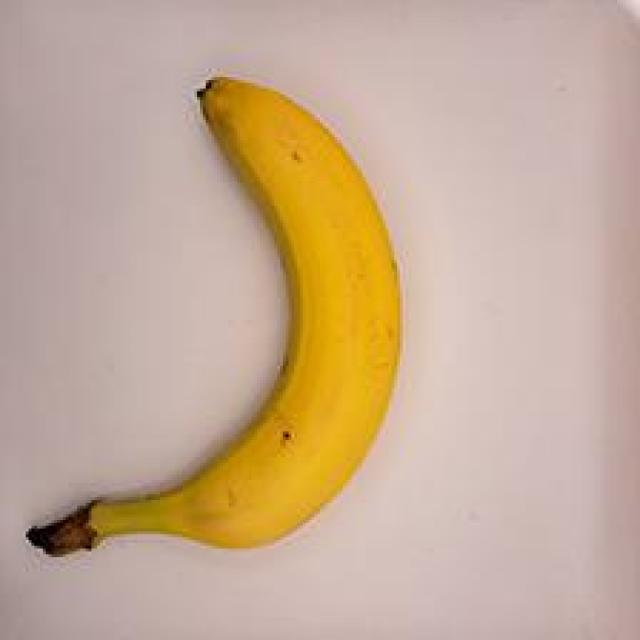Ripe: (0, 53, 449, 571)
